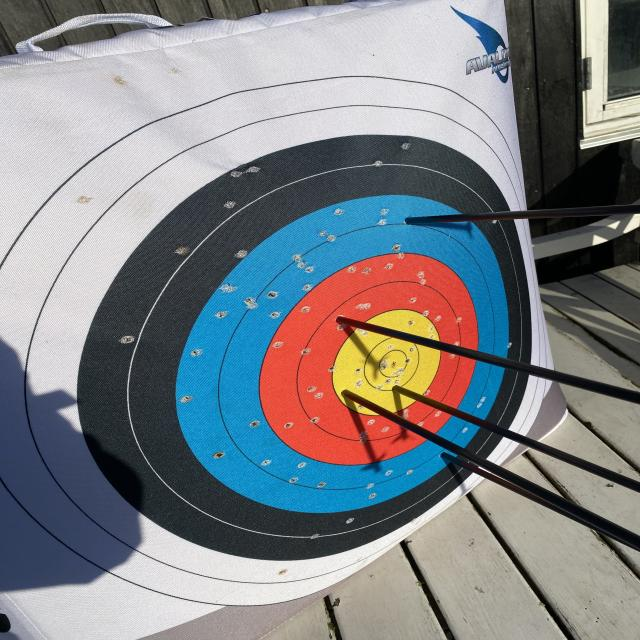Arrow_Blue: (394, 208, 437, 246), (429, 439, 466, 479)
Arrow_Red: (325, 300, 369, 341)
Arrow_Yellow: (387, 368, 418, 417), (329, 376, 365, 411)
